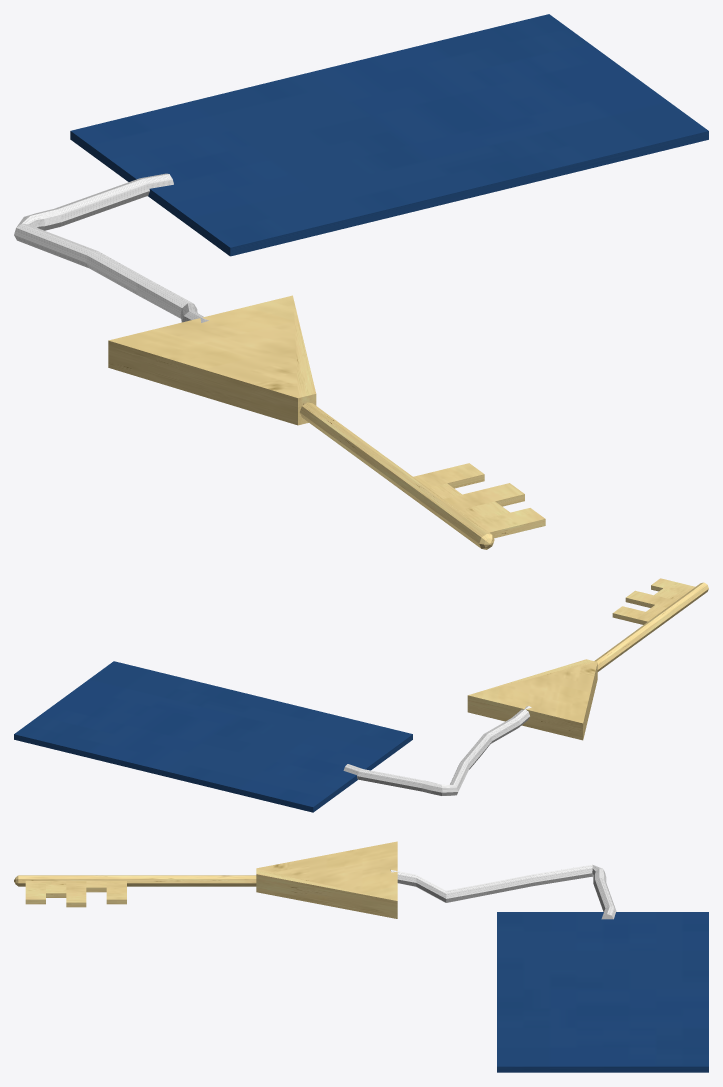
Rendered from Triangular_keys.fbx.
3 renders of one model, top to bottom at view 1: azimuth 30°, elevation 25°; view 2: azimuth 150°, elevation 25°; view 3: azimuth 270°, elevation 25°, orthographic. The views are drawn at different scales.
Visible parts, largest first — view 1: Cube.003, Cube.004, Cylinder.002; view 2: Cube.003, Cube.004, Cylinder.002; view 3: Cube.003, Cube.004, Cylinder.002.
Part boxes in pixels (<box>): Cube.003: <box>70,14,708,256</box>; Cube.004: <box>108,295,545,549</box>; Cylinder.002: <box>14,173,208,322</box>; Cube.003: <box>14,661,412,812</box>; Cube.004: <box>467,578,708,740</box>; Cylinder.002: <box>343,706,531,795</box>; Cube.003: <box>497,912,708,1072</box>; Cube.004: <box>14,841,397,918</box>; Cylinder.002: <box>390,864,616,919</box>.
Size of the model in its own units: 19.1 by 1.01 by 25.66.
3 materials, 3 textured.
